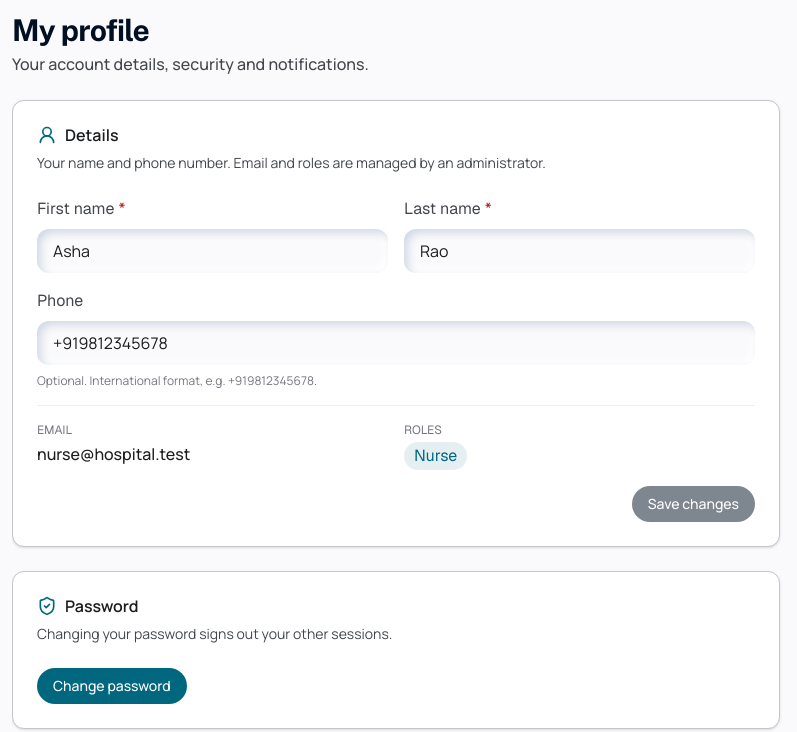
Scenario: ProfilePage › rejects a malformed phone number before it reaches the API
This screenshot has width=797, height=732.
Replace the text in the field showing "+919812345678" with "not-a-number" at (396, 343), box 37,321 -> 755,365
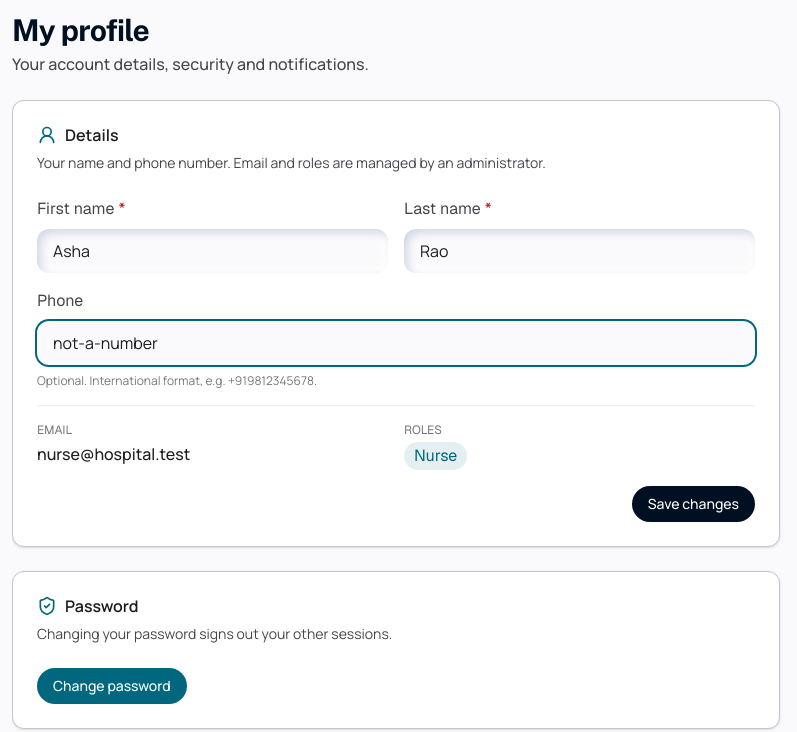
Click the button "Save changes" at (693, 504), box 632,486 -> 755,522
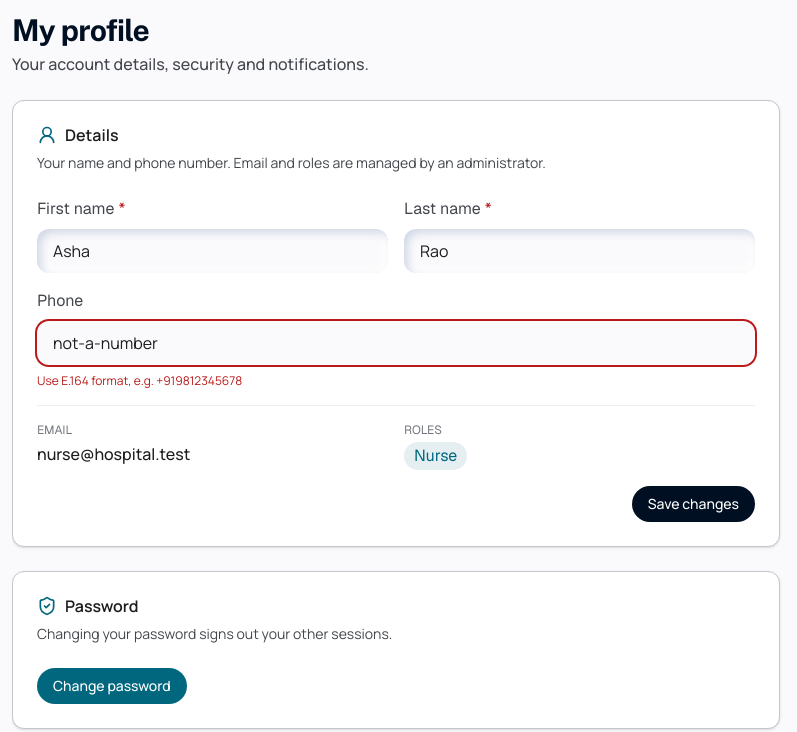
Result: the text "Use E.164 format, e.g. +919812345678" is shown at 37,372 -> 242,389
